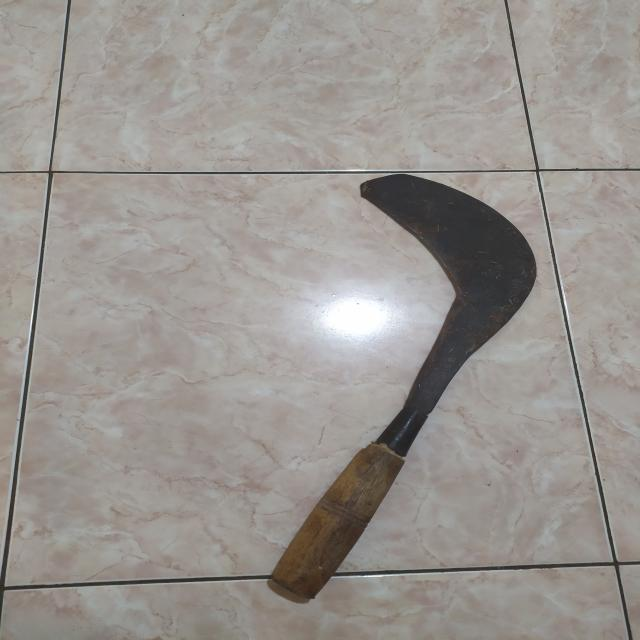Celurit: (268, 174, 539, 604)
